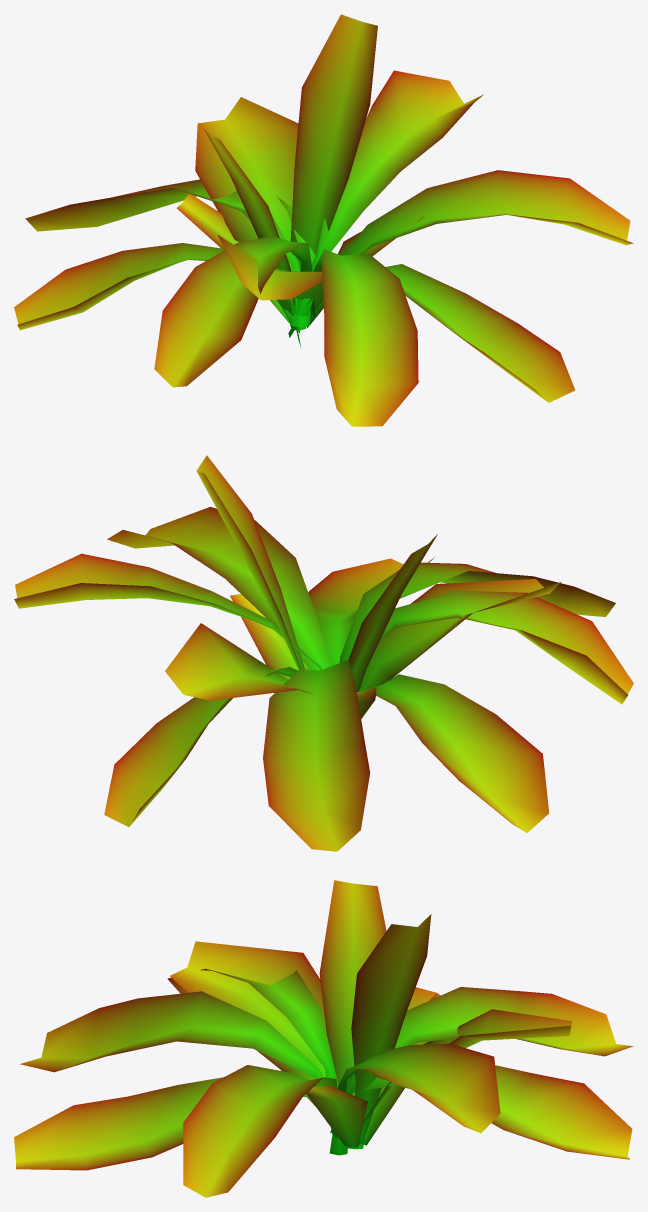
File: Cape Weed_LOD0_Var7_tjmhfcyia.fbx
The picture shows the model from 3 angles, top to bottom: view 1: azimuth 30°, elevation 25°; view 2: azimuth 150°, elevation 25°; view 3: azimuth 270°, elevation 25°; orthographic projection. The views are drawn at different scales.
Parts seen in each view (by area): view 1: _0f47_Var7_LOD0; view 2: _0f47_Var7_LOD0; view 3: _0f47_Var7_LOD0.
Part boxes in pixels (<box>): _0f47_Var7_LOD0: <box>14,14,633,426</box>; _0f47_Var7_LOD0: <box>14,455,633,851</box>; _0f47_Var7_LOD0: <box>14,880,633,1197</box>.
Size of the model in its own units: 17.71 by 9.22 by 18.22.
